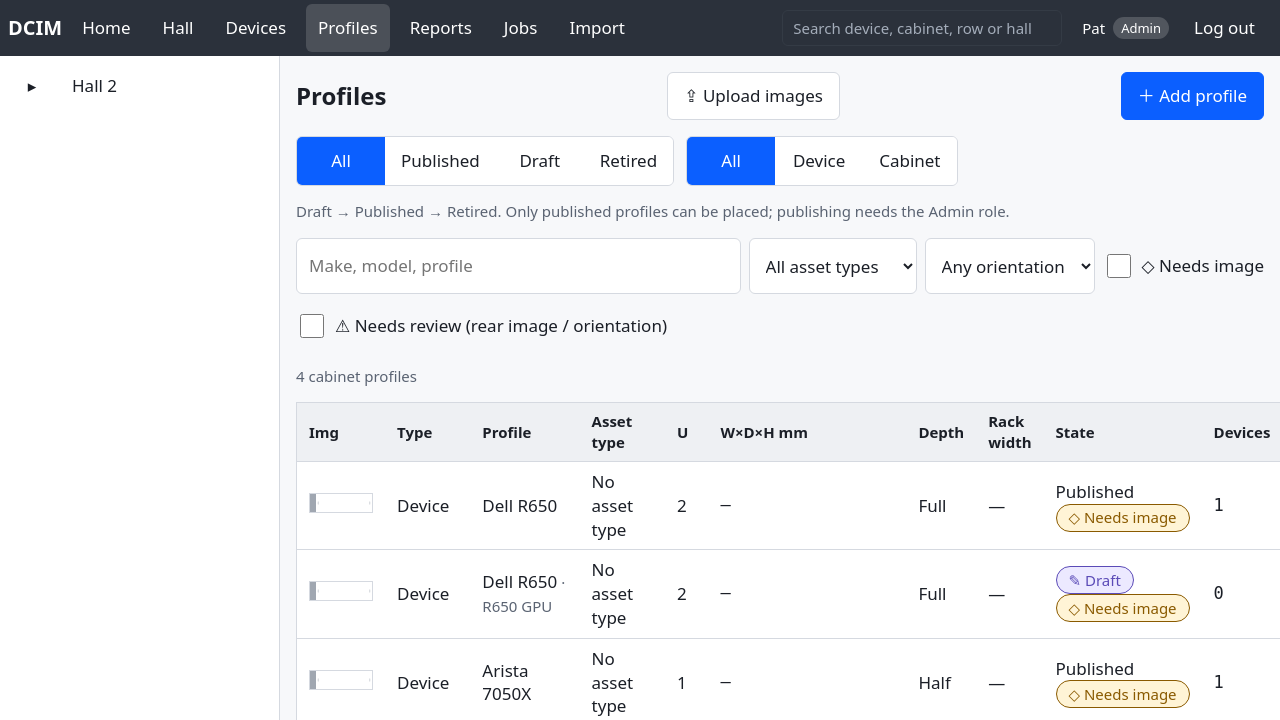
Test case: Add profile: Cabinet type (admin only) › admins see Device · Cabinet; technicians do not
The image size is (1280, 720).
Click the button "＋ Add profile". click: coordinates (1192, 96)
box: [1121,72,1264,120]
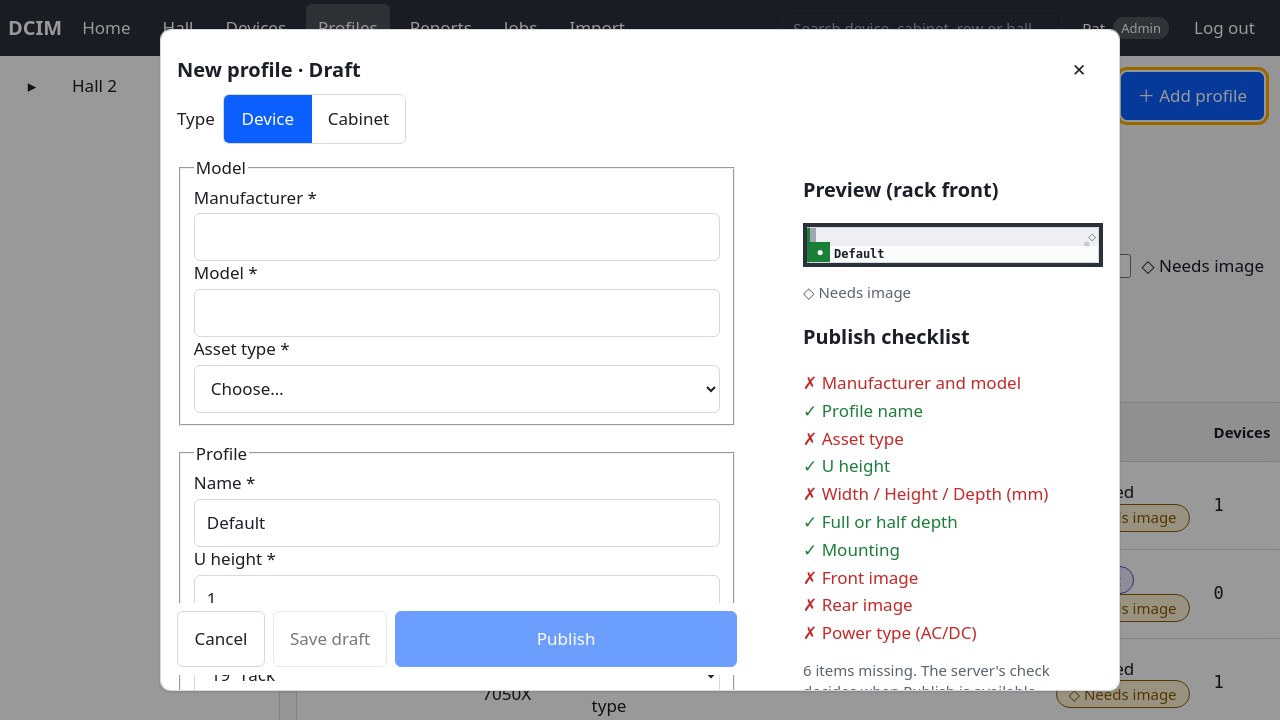
Click the button "Cabinet". click: coordinates (358, 119)
box: [312,95,405,143]
(page scrolled)
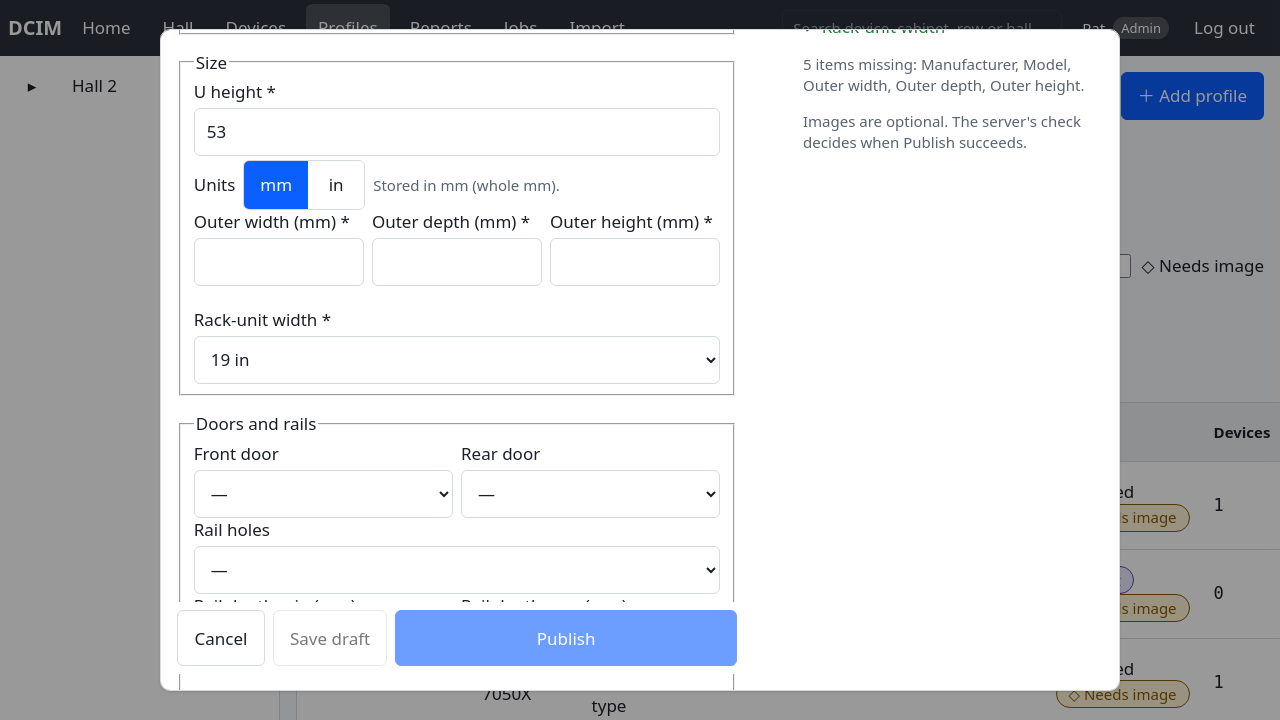
Expected: the dialog "New cabinet profile" is shown
Expected: the field labelled "U height" holds "53", [194,108,720,156]
Expected: the dropdown labelled "Rack-unit width *" shows "19 in", [194,336,720,384]
